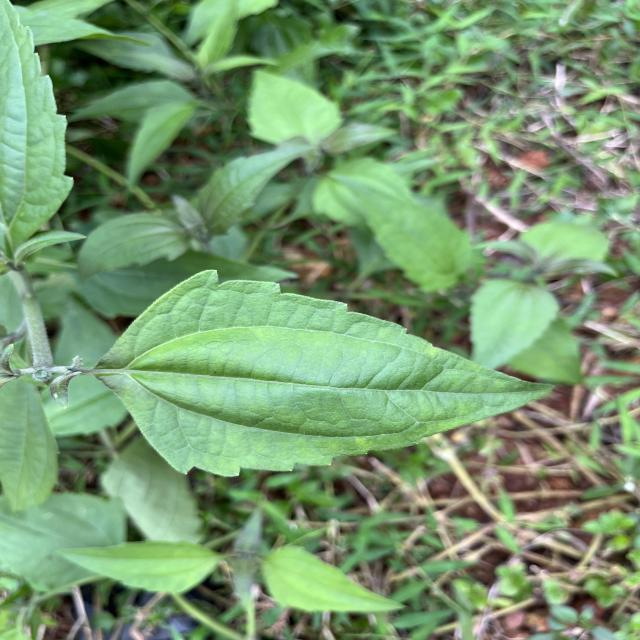Chromolaena odorata: (94, 264, 564, 481)
